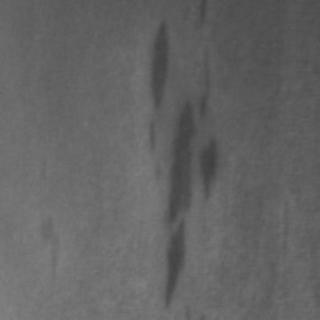inclusion: (144, 13, 218, 309), (138, 5, 178, 119), (30, 210, 62, 276), (194, 131, 222, 203)
